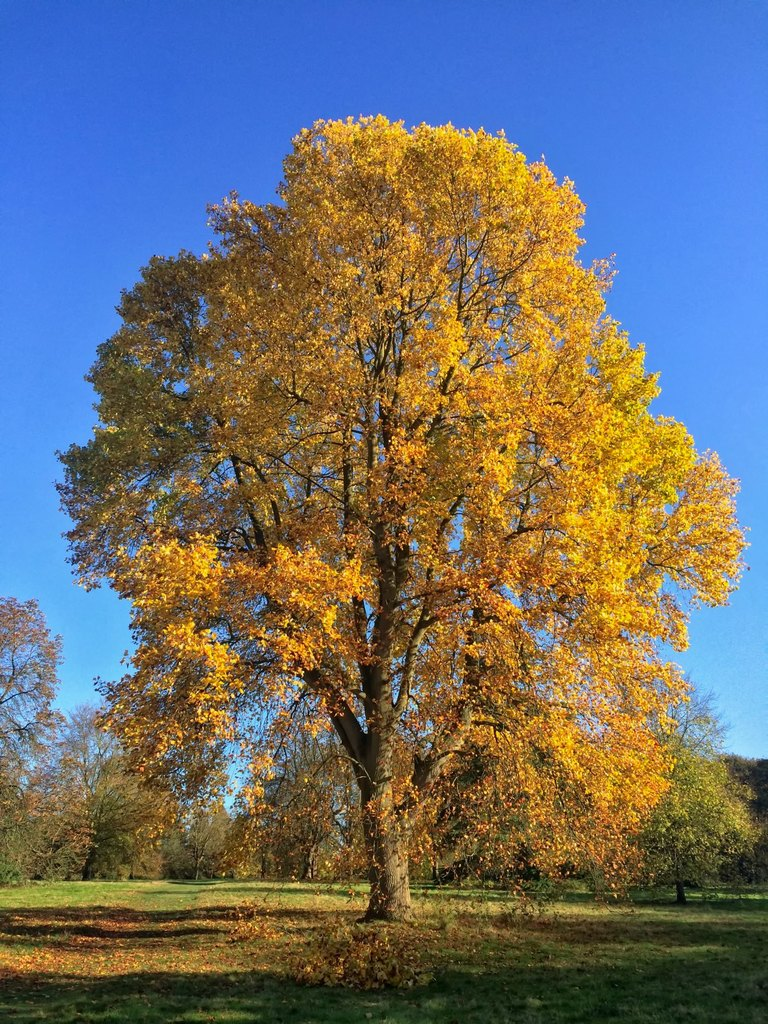Tree: (54, 117, 752, 921), (0, 595, 236, 888), (630, 733, 768, 902)
